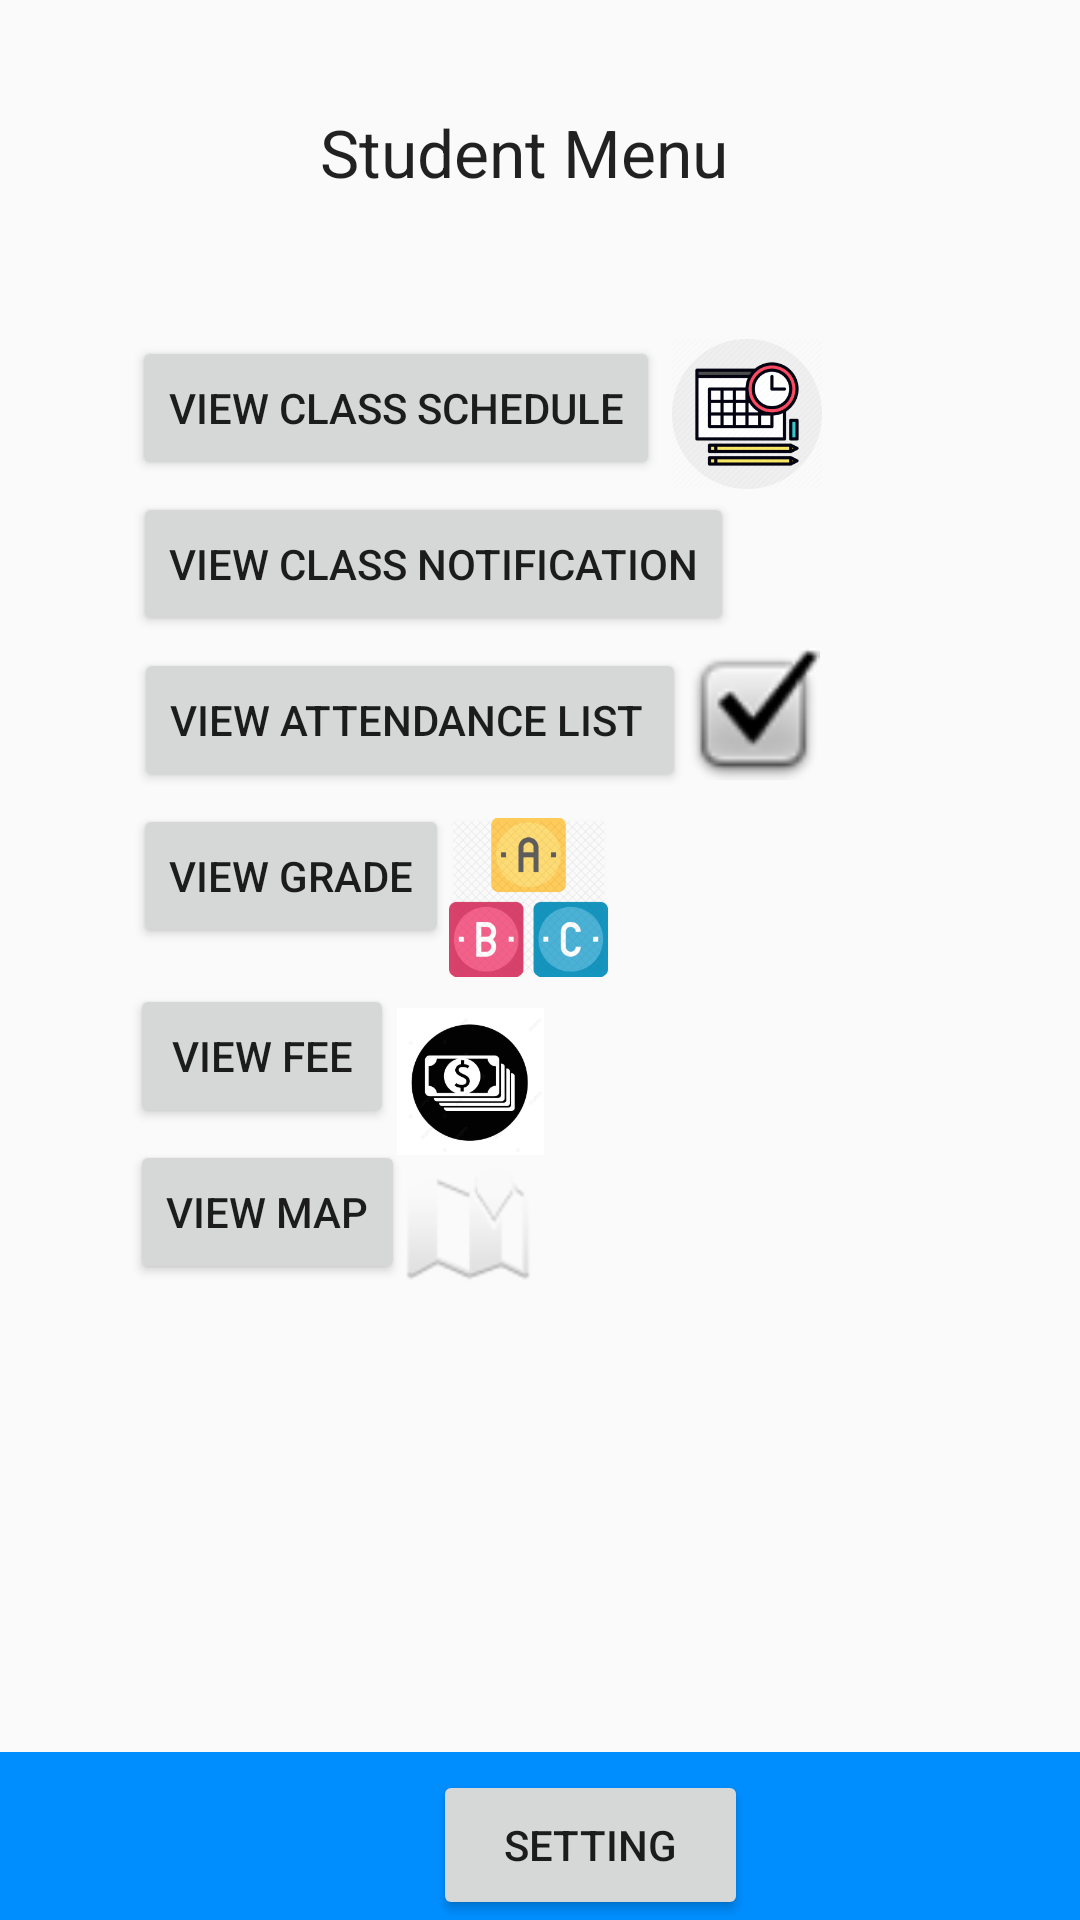

Screen size 1080*1920. Icon name, then its center in pixels as (x=x, y=y):
money: (x=469, y=1082)
timetable: (x=747, y=414)
